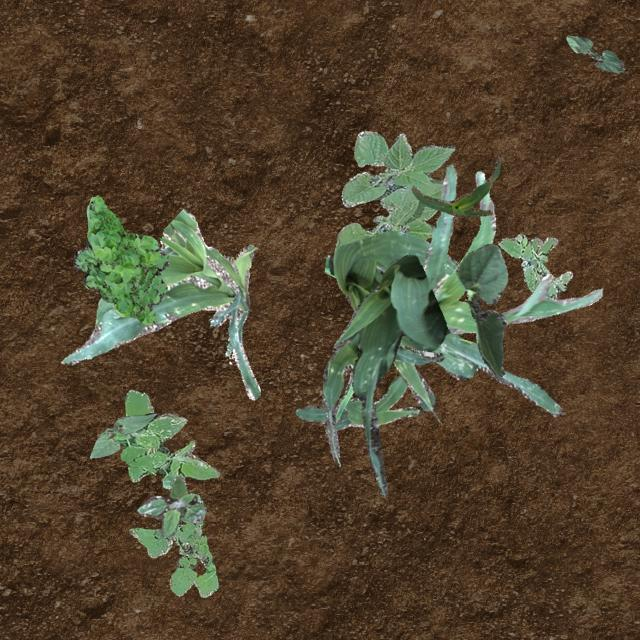crop: (328, 228, 560, 416), (59, 208, 260, 398), (422, 164, 602, 332), (323, 224, 475, 422), (332, 253, 448, 494), (320, 332, 442, 458), (335, 130, 453, 248), (294, 374, 418, 429), (456, 242, 506, 376), (410, 154, 502, 217), (88, 412, 156, 456), (566, 34, 624, 72)
weed: (72, 194, 166, 324), (112, 388, 218, 488), (128, 494, 218, 596), (498, 232, 572, 298), (136, 476, 204, 536)
